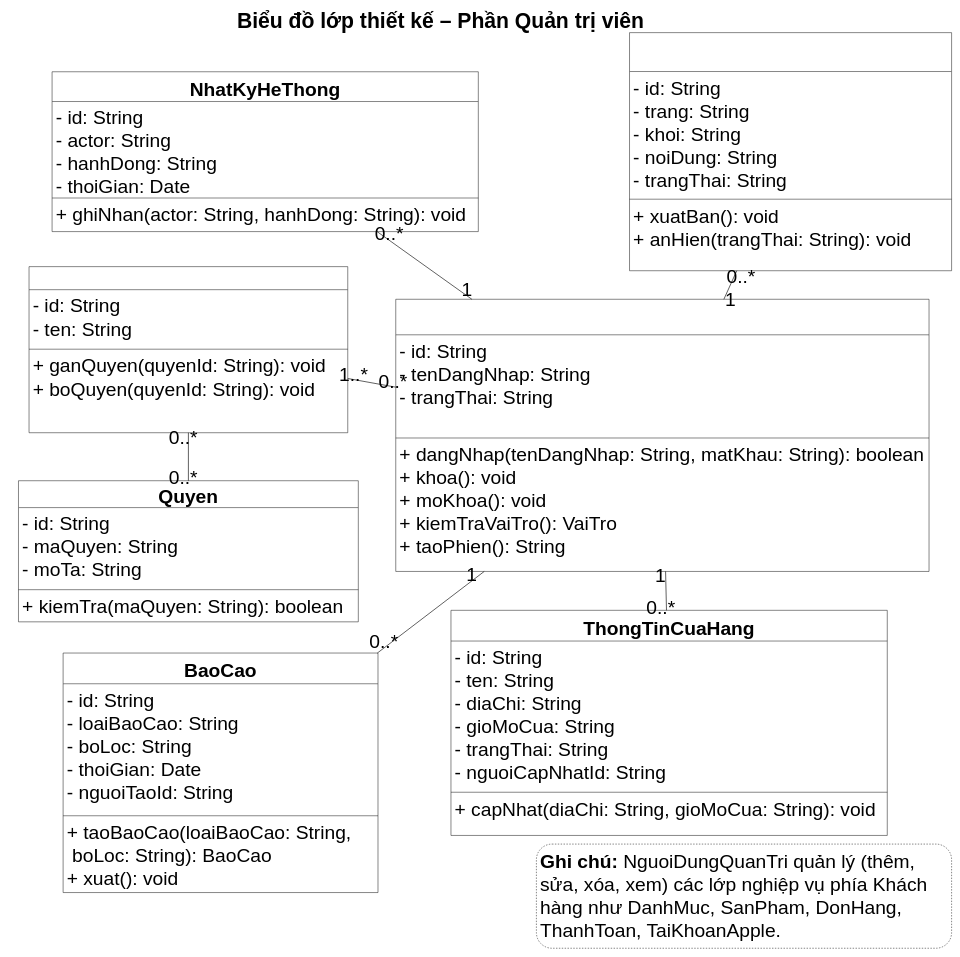
This 960x957 diagram has some shape labels left out. The box of each missing label's shape, as (x1, y1, x2, y2) in pixels:
NguoiDungQuanTri: (395, 299, 929, 571)
NoiDungWebsite: (629, 32, 952, 271)
VaiTro: (29, 266, 348, 433)
